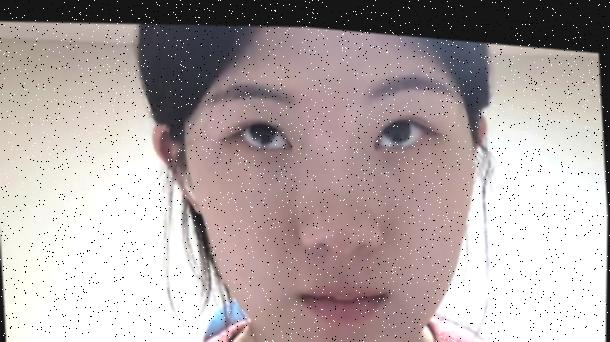eye: (248, 108, 279, 141), (382, 106, 412, 137)
iris: (237, 114, 295, 150), (374, 108, 428, 144)
